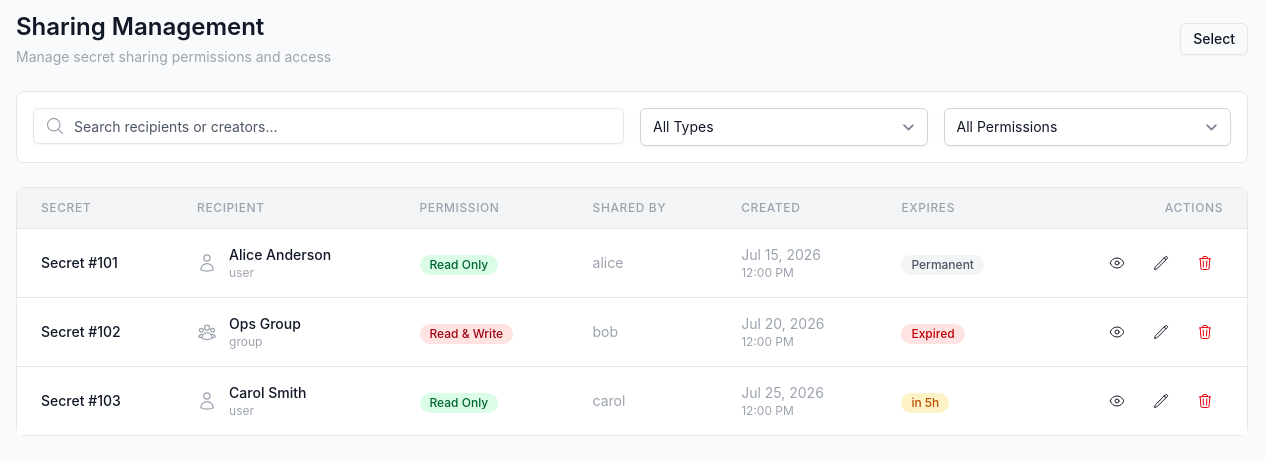
Scenario: SharingManagementPage — bulk selection and bulk revoke › tracks selection via per-row checkboxes and shows a running count
The image size is (1265, 461).
Click the button "Select". click: (1214, 39)
box: [1180,23,1248,55]
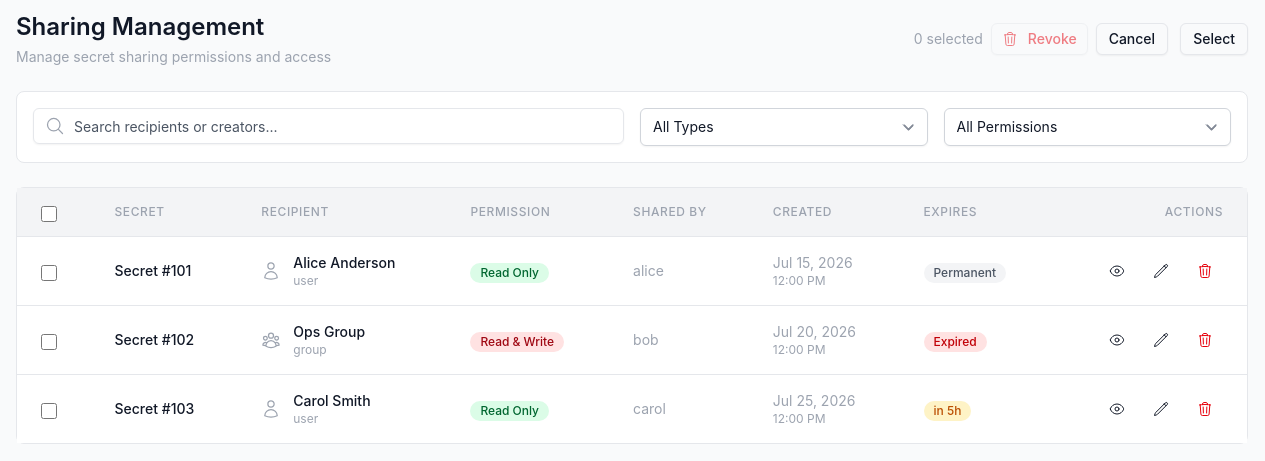
Click the checkbox in the row of "101". click: (49, 273)
box: [41,265,57,281]
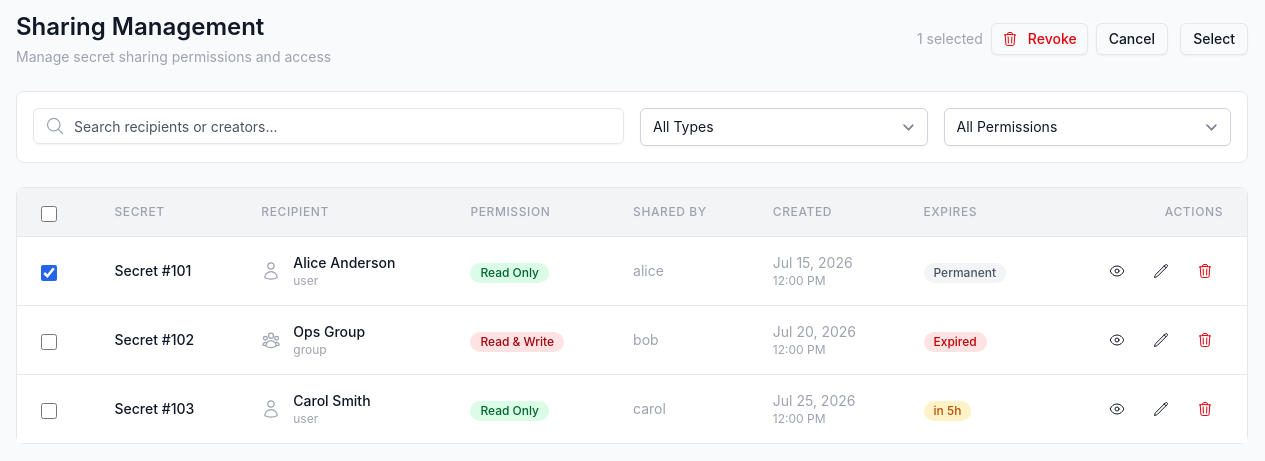
Now the text "1 selected" is shown, box [917,29,983,49]
